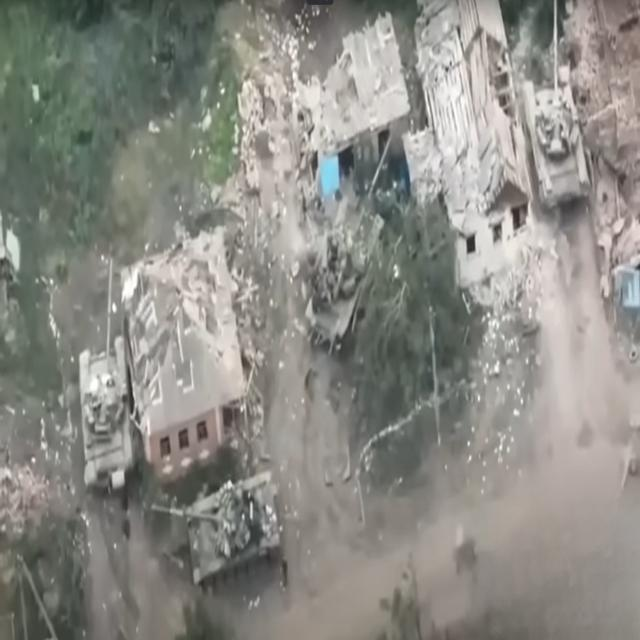MBT: (304, 134, 395, 366), (150, 467, 298, 599), (522, 1, 592, 225), (80, 256, 140, 500)
